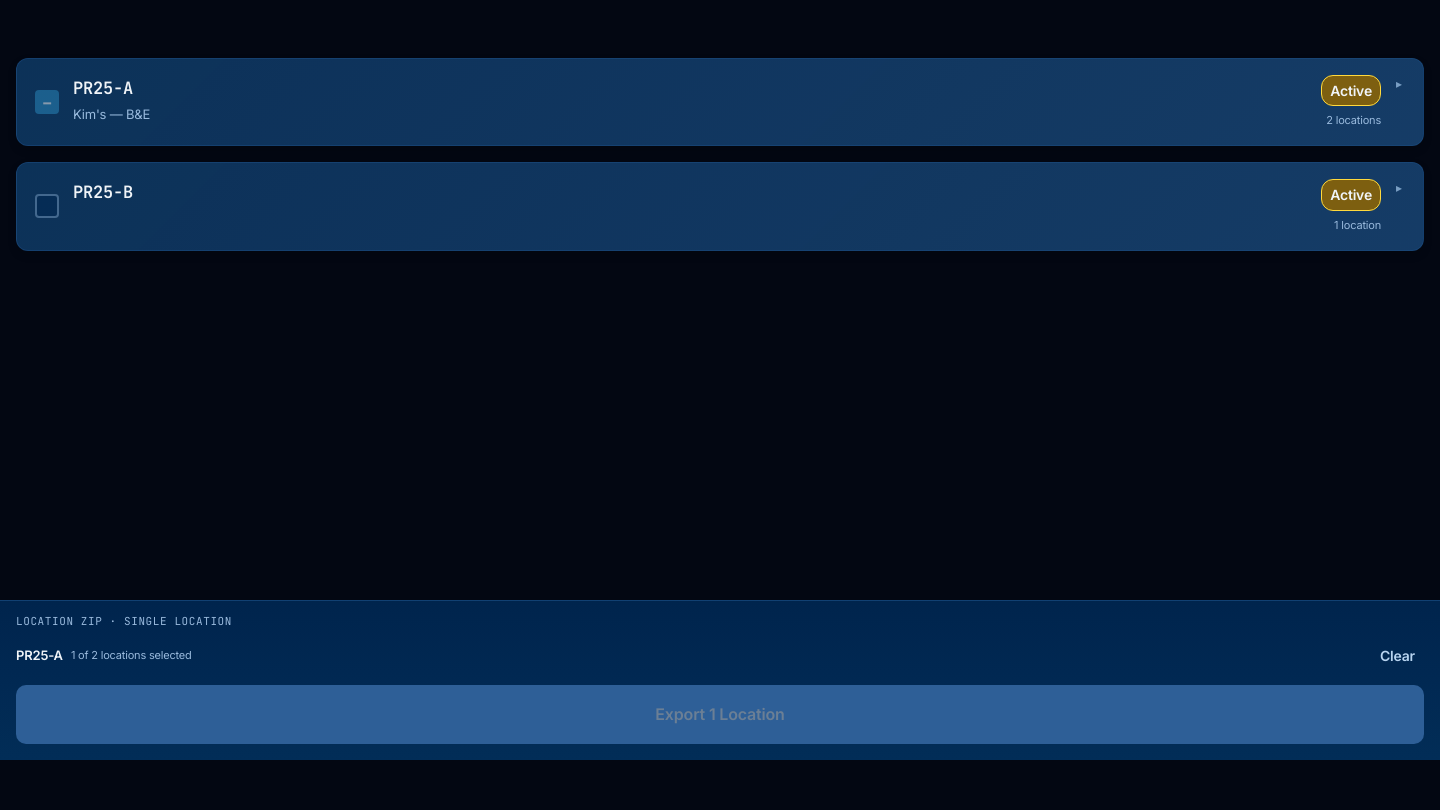
ExportHub — tri-state case checkbox › locks every checkbox and the CTA during a run — but not Clear
Click the button "PR25-A Kim's — B&E Active 2 locations ▸" at (103,88), box [65,59,1423,145]
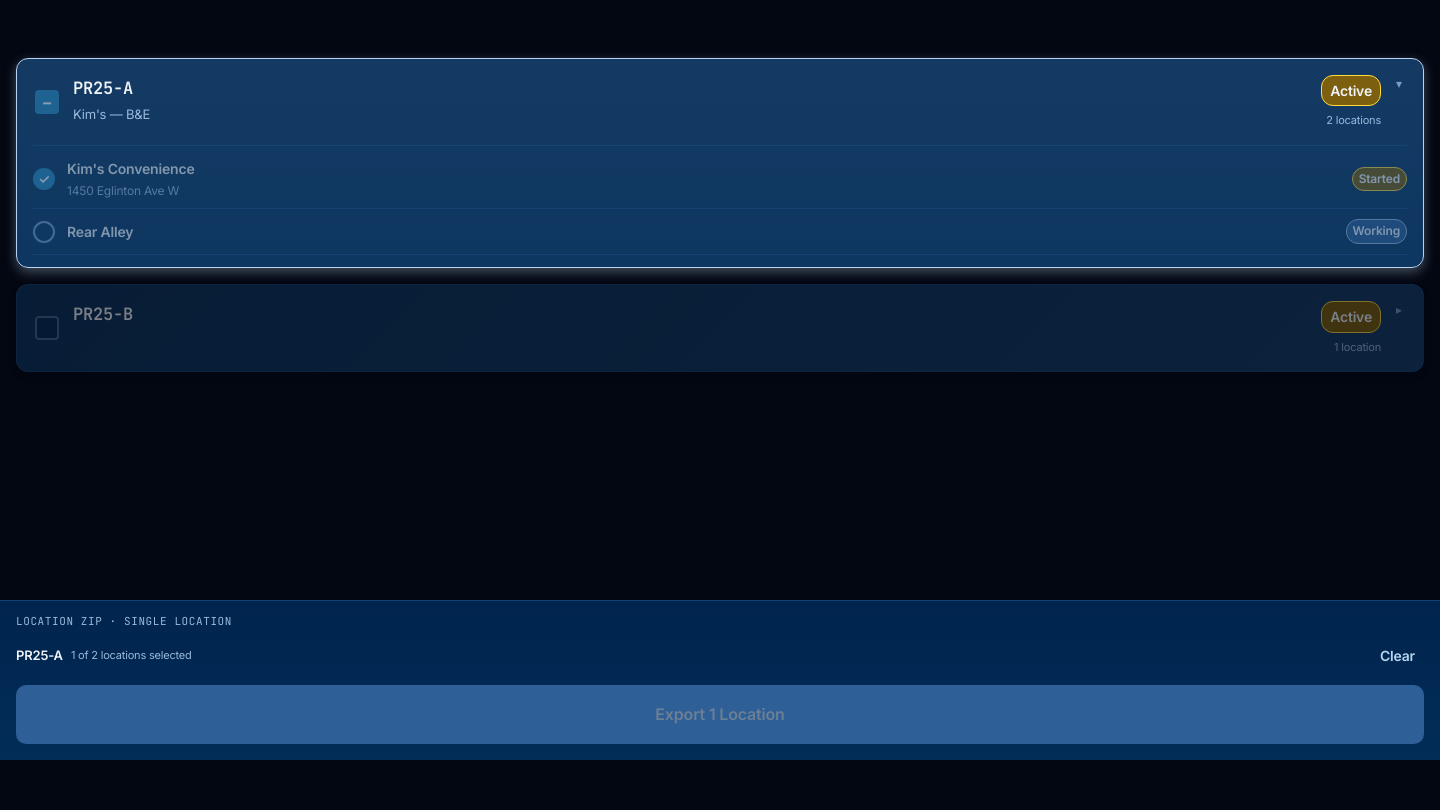
Check: the button "Export 1 Location" is disabled, box [16,686,1424,744]
Check: the checkbox named "Select Kim's Convenience" is disabled, box [33,150,1407,209]
